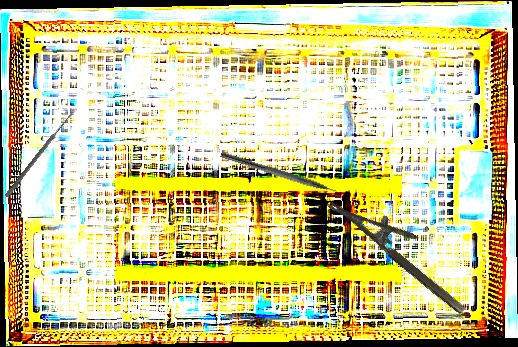Chopper: (217, 151, 347, 204)
Needle Holder: (327, 179, 481, 317)
Surgical Spoon: (4, 106, 78, 199)
